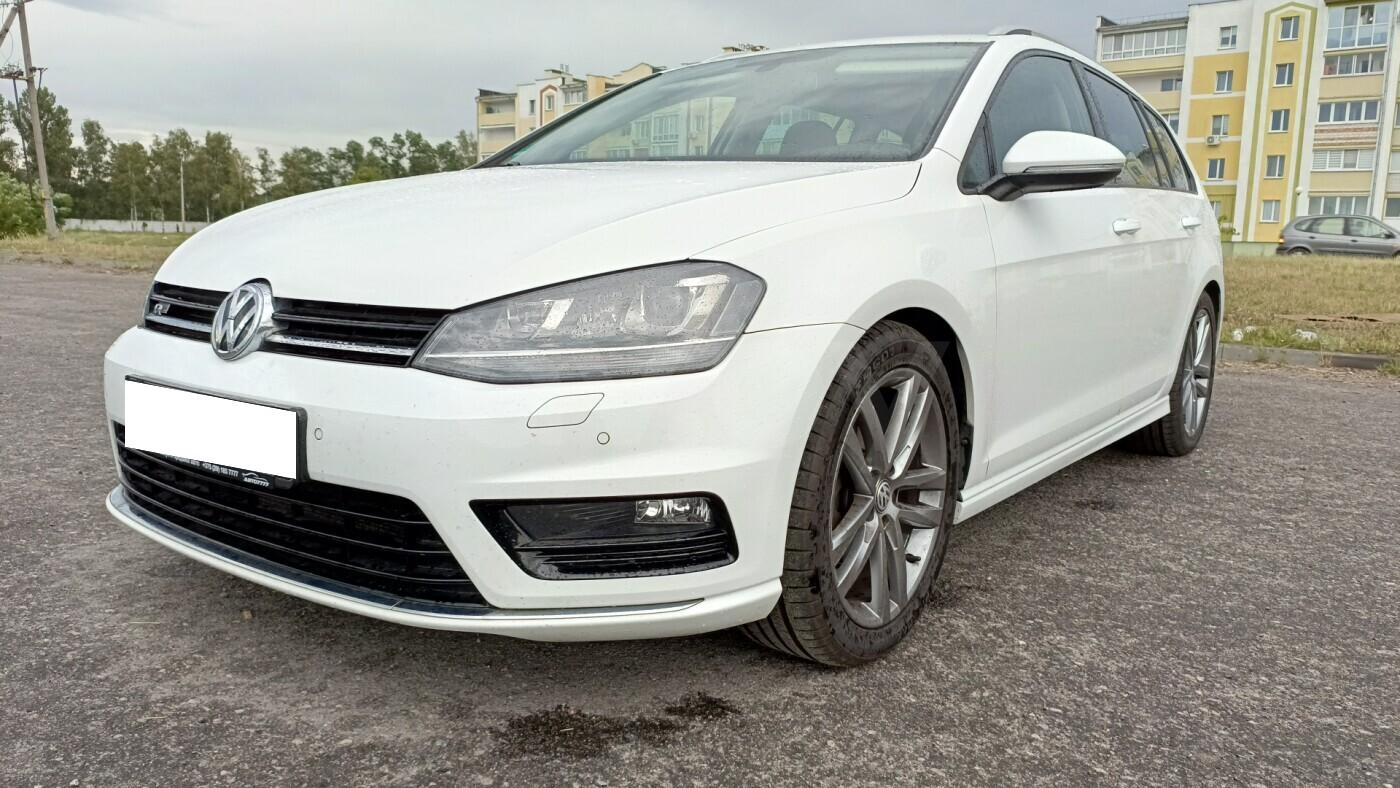Golf_2012-2017: (91, 23, 1231, 667)
